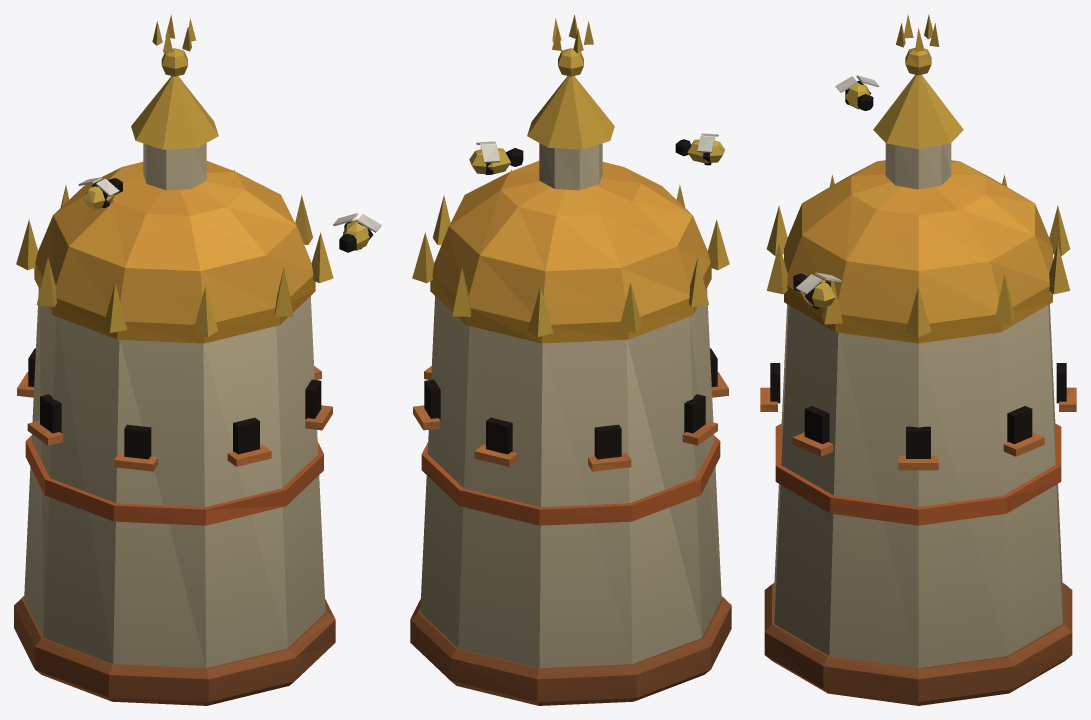
Rendered from royal_apiary.glb.
3 views of the same model, side by side, from view 1: azimuth 30°, elevation 25°; view 2: azimuth 150°, elevation 25°; view 3: azimuth 270°, elevation 25° (orthographic).
Parts seen in each view (by area): view 1: royal_apiary; view 2: royal_apiary; view 3: royal_apiary.
Part boxes in pixels (<box>): royal_apiary: <box>14,14,381,705</box>; royal_apiary: <box>410,14,731,705</box>; royal_apiary: <box>760,14,1076,705</box>.
Bounding box in the file's own units: 0.6647 × 1.36 × 0.6262.
